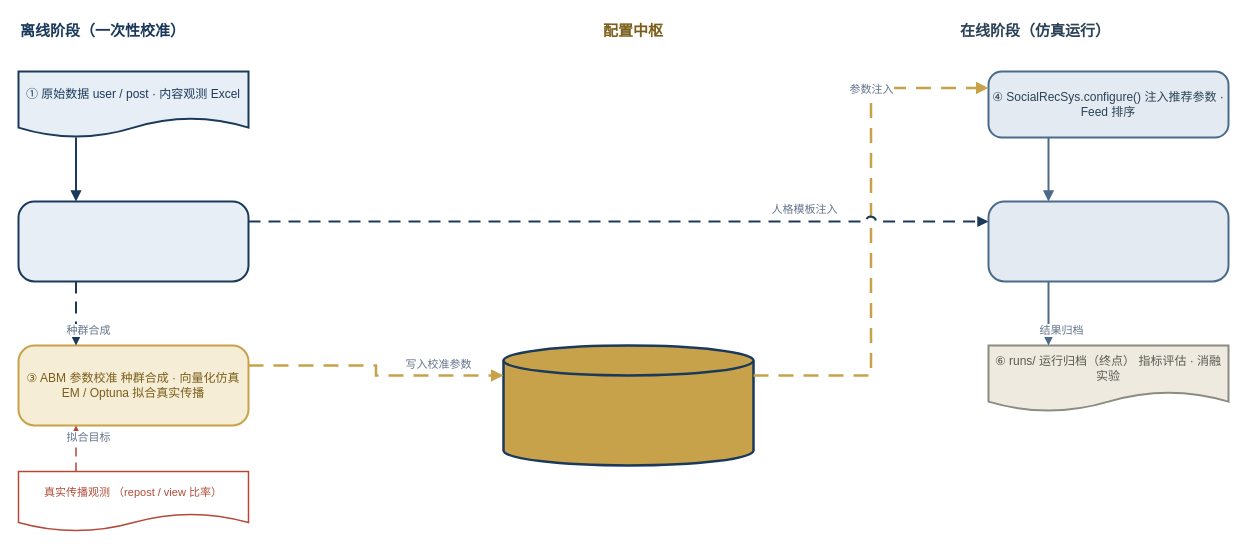
The diagram is 1255 pixels wide and 549 high, and some of its shapes have lost their labels. The box of each missing label's shape, as (x1, y1, x2, y2) in pixels:
calibration_profile.yaml 离线→在线唯一配置接口 四维权重 · decay_lambda: (502, 344, 754, 466)
② 用户画像生成 五阶段 LLM · 影响力分层 portraits/*.json: (17, 200, 249, 282)
⑤ Agent 模拟运行 人格驱动 · 发帖/评论/点赞/转发: (987, 200, 1229, 282)
